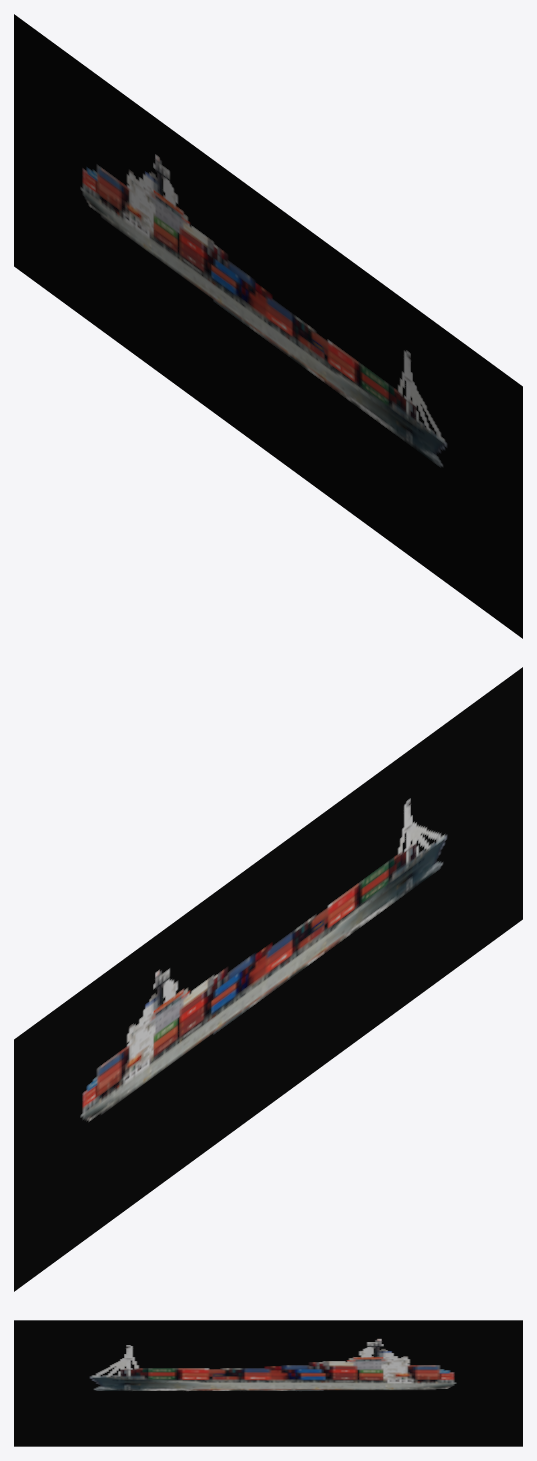
The model's file is boat.obj.
The picture shows the model from 3 angles, top to bottom: view 1: azimuth 30°, elevation 25°; view 2: azimuth 150°, elevation 25°; view 3: azimuth 270°, elevation 25°; orthographic projection. The views are drawn at different scales.
Visible parts, largest first — view 1: boat_Grid.004; view 2: boat_Grid.004; view 3: boat_Grid.004.
Boxes of the visible parts, <box> form: boat_Grid.004: <box>14,14,522,638</box>; boat_Grid.004: <box>14,667,522,1291</box>; boat_Grid.004: <box>14,1320,522,1446</box>.
Size of the model in its own units: 0 by 28.6 by 105.
Materials: 1 (1 with a texture image).
